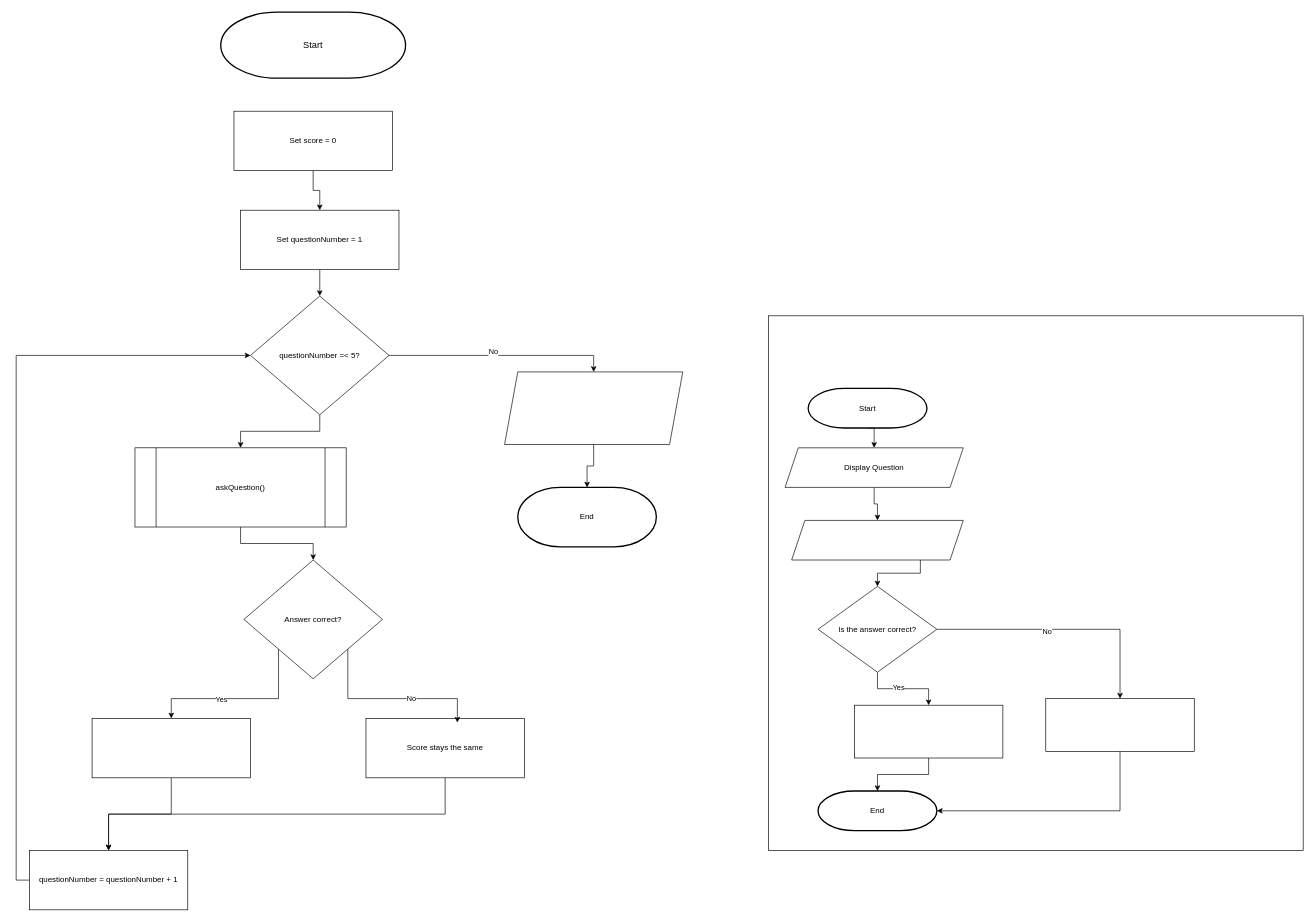
Image size: 1315x921. Some labels were removed from this diagram. The shapes that lost their labels are listed below. From the top down, each one's box as (x1, y1, x2, y2) in pixels, then its label:
(504, 371, 683, 445): Display Final Score
(791, 520, 963, 560): Get contestant answer (input)
(768, 315, 1303, 850): Module: askQuestion()
(854, 705, 1003, 758): Return true
(1045, 698, 1194, 751): Return false
(91, 718, 250, 778): Add points to score (score = score + 100)
